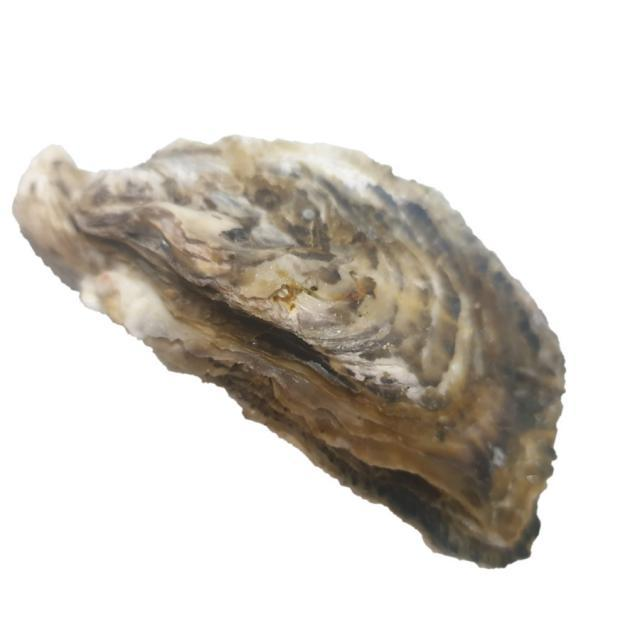Oyster- Indeterminate: (11, 134, 568, 572)
